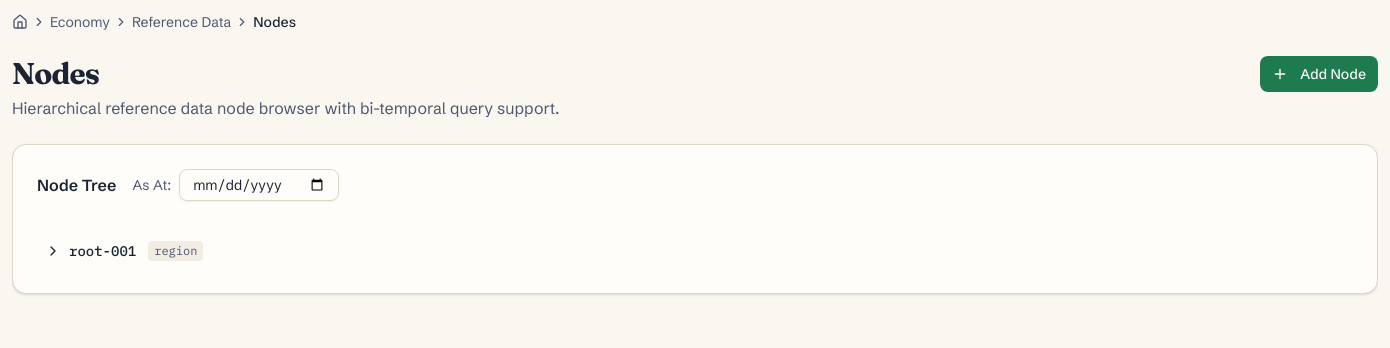
Test: NodesPage › collapses node when collapse button clicked
This screenshot has width=1390, height=348.
Expected: the text "root-001" is shown, [69,241,136,261]
// Expand first
Click the button named "expand": click(53, 251) [41,239,65,263]
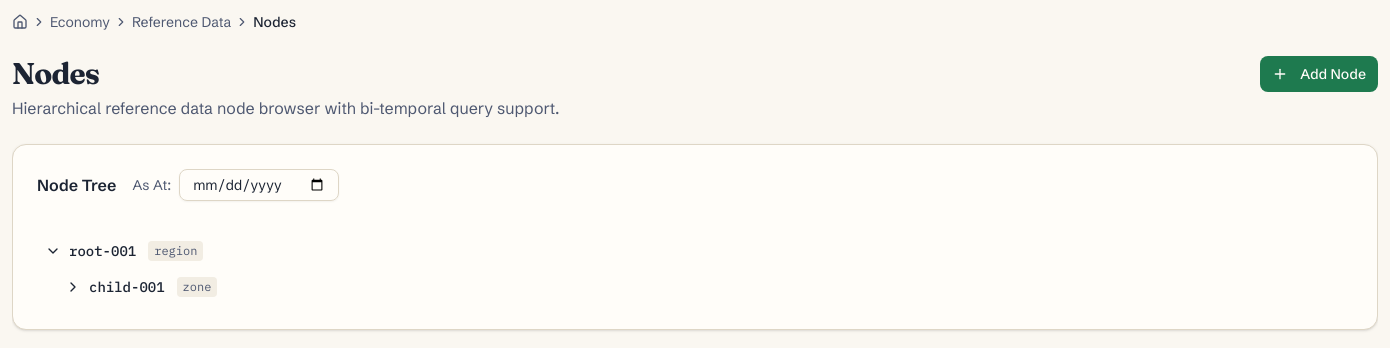
Result: the text "child-001" is shown at [89,277,165,297]
// Then collapse
Click the button named "collapse": click(53, 251) [41,239,65,263]
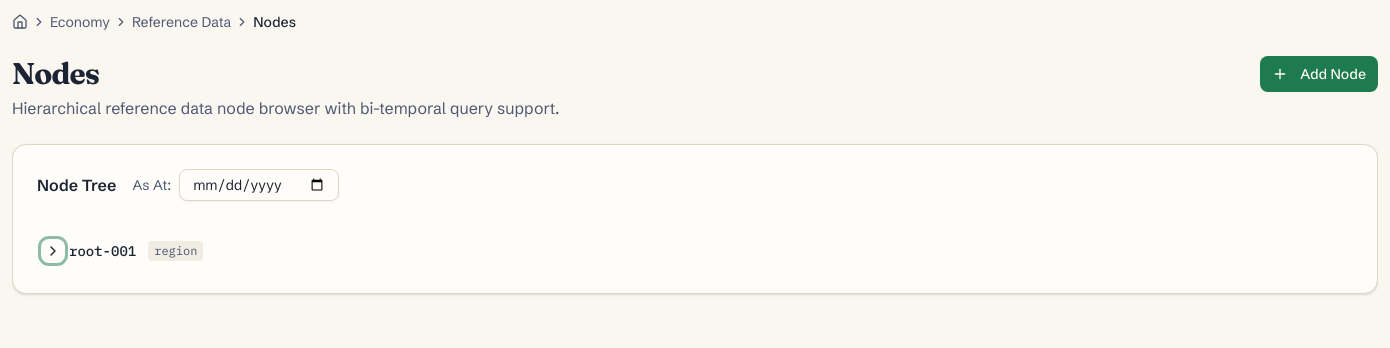
Result: the text "child-001" is gone
